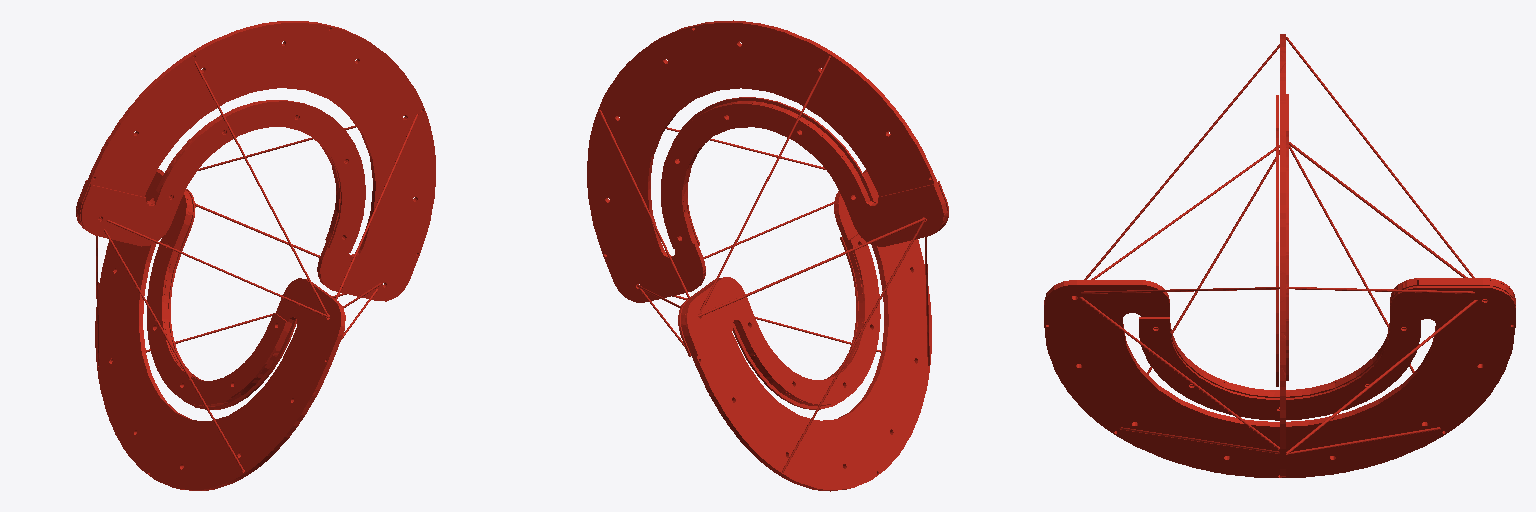
URDF robot description (sphericon_test2):
<?xml version="1.0" encoding="utf-8"?>
<!-- This URDF was automatically created by SolidWorks to URDF Exporter! Originally created by [author] ([email redacted]) 
     Commit Version: 1.6.0-4-g7f85cfe  Build Version: 1.6.7995.38578
     For more information, please see http://wiki.ros.org/sw_urdf_exporter -->
<robot
  name="sphericon_test2">
  <link
    name="base_link">
    <inertial>
      <origin
        xyz="0.20405 0.10632 0.0014434"
        rpy="0 0 0" />
      <mass
        value="0.6" />
      <inertia
        ixx="0.014903"
        ixy="-0.00017119"
        ixz="-4.2726E-06"
        iyy="0.012259"
        iyz="0.00018015"
        izz="0.015118" />
    </inertial>
    <visual>
      <origin
        xyz="0 0 0"
        rpy="0 0 0" />
      <geometry>
        <mesh
          filename="package://sphericon_test2/meshes/base_link.STL" />
      </geometry>
      <material
        name="">
        <color
          rgba="0.76863 0.20784 0.15294 1" />
      </material>
    </visual>
    <collision>
      <origin
        xyz="0 0 0"
        rpy="0 0 0" />
      <geometry>
        <mesh
          filename="package://sphericon_test2/meshes/base_link.STL" />
      </geometry>
    </collision>
  </link>
  <link
    name="motor1">
    <inertial>
      <origin
        xyz="-0.037633 -0.079986 -0.019508"
        rpy="0 0 0" />
      <mass
        value="0.402" />
      <inertia
        ixx="5.7974E-05"
        ixy="-1.4016E-07"
        ixz="-8.0839E-10"
        iyy="3.1783E-05"
        iyz="-5.5543E-11"
        izz="8.6841E-05" />
    </inertial>
    <visual>
      <origin
        xyz="0 0 0"
        rpy="0 0 0" />
      <geometry>
        <mesh
          filename="package://sphericon_test2/meshes/motor1.STL" />
      </geometry>
      <material
        name="">
        <color
          rgba="0.76863 0.20784 0.15294 1" />
      </material>
    </visual>
    <collision>
      <origin
        xyz="0 0 0"
        rpy="0 0 0" />
      <geometry>
        <mesh
          filename="package://sphericon_test2/meshes/motor1.STL" />
      </geometry>
    </collision>
  </link>
  <joint
    name="mjoint1"
    type="continuous">
    <origin
      xyz="0.22247 -0.0066 0.077904"
      rpy="-1.5708 -0.37745 -3.1416" />
    <parent
      link="base_link" />
    <child
      link="motor1" />
    <axis
      xyz="0 0 0" />
    <dynamics
      damping="1"
      friction="1" />
  </joint>
  <link
    name="motor2">
    <inertial>
      <origin
        xyz="-0.00028322 0.015592 -0.010972"
        rpy="0 0 0" />
      <mass
        value="0.402" />
      <inertia
        ixx="5.7974E-05"
        ixy="-8.0839E-10"
        ixz="1.4016E-07"
        iyy="8.6841E-05"
        iyz="5.5543E-11"
        izz="3.1783E-05" />
    </inertial>
    <visual>
      <origin
        xyz="0 0 0"
        rpy="0 0 0" />
      <geometry>
        <mesh
          filename="package://sphericon_test2/meshes/motor2.STL" />
      </geometry>
      <material
        name="">
        <color
          rgba="0.79608 0.79608 0.79608 1" />
      </material>
    </visual>
    <collision>
      <origin
        xyz="0 0 0"
        rpy="0 0 0" />
      <geometry>
        <mesh
          filename="package://sphericon_test2/meshes/motor2.STL" />
      </geometry>
    </collision>
  </link>
  <joint
    name="mjoint2"
    type="continuous">
    <origin
      xyz="0.13979 0.0011842 -0.11502"
      rpy="-2.7113 -0.047594 1.549" />
    <parent
      link="base_link" />
    <child
      link="motor2" />
    <axis
      xyz="0 0 0" />
    <dynamics
      damping="1"
      friction="1" />
  </joint>
</robot>

--- What the picture shows (computed from the rendered views, not written in the file) ---
Views: 3 orthographic renders of the robot side by side, from view 1: azimuth 30°, elevation 25°; view 2: azimuth 150°, elevation 25°; view 3: azimuth 270°, elevation 25°.
Model sphericon_test2 with 3 links and 2 joints (2 continuous), rooted at base_link, posed every joint at zero.
Links seen in each view (by area): view 1: base_link; view 2: base_link; view 3: base_link.
Boxes of the visible links, left/top/right/bottom form: base_link: left=76, top=21, right=435, bottom=490; base_link: left=587, top=20, right=948, bottom=491; base_link: left=1044, top=34, right=1515, bottom=477.
Bounding box of the posed robot: 0.3637 × 0.3677 × 0.4127 m (x, y, z).
1 mesh visuals loaded from 3 distinct referenced files (1 binary STL); not drawn: 2 (reference not matched to a file when rendering).